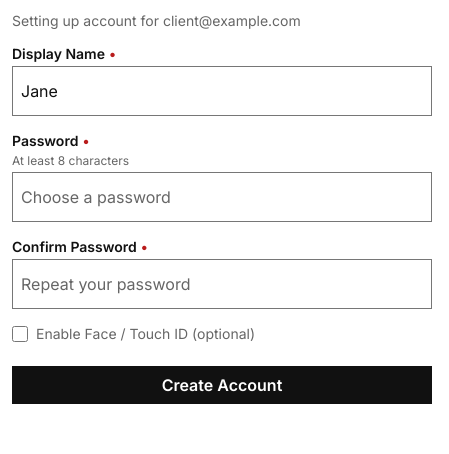
Test case: InviteForm › shows an expired/invalid message and does not redirect on ApiError(410)
This screenshot has width=449, height=454.
Type "pw123456" into the password field with placeholder "Choose a password". click: x=222, y=197
box: x1=12 y1=172 x2=432 y2=222
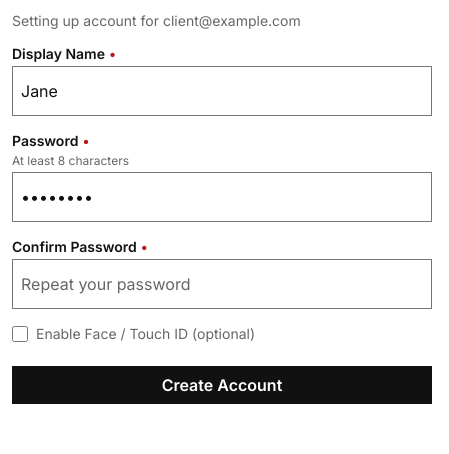
Type "pw123456" into the password field with placeholder "Repeat your password". click: x=222, y=284
box: x1=12 y1=259 x2=432 y2=309
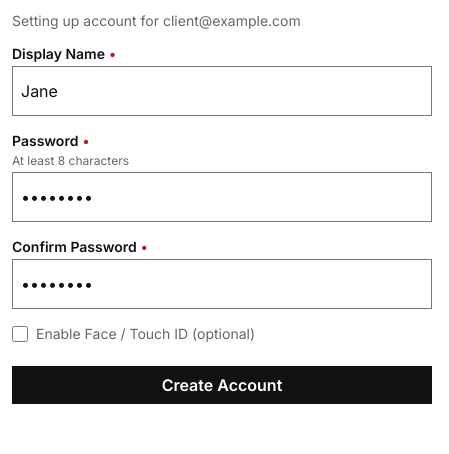
Click the button "Create Account". click: x=222, y=385
box: x1=12 y1=366 x2=432 y2=404
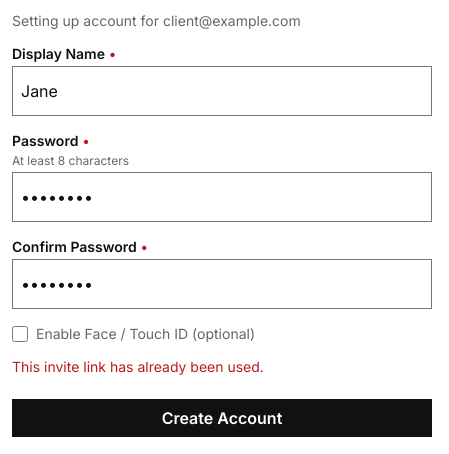
Expected: the message shows "already been used", x1=12 y1=358 x2=264 y2=375
